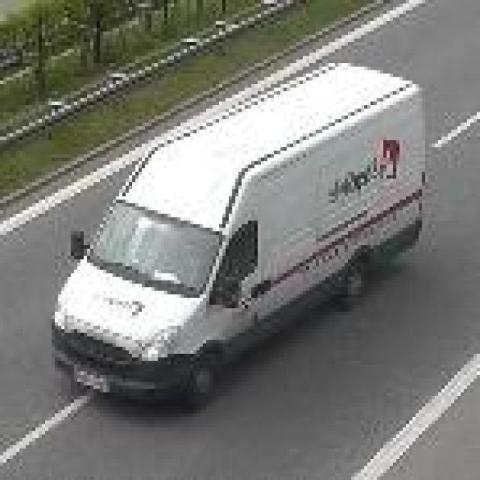van: (55, 63, 422, 403)
